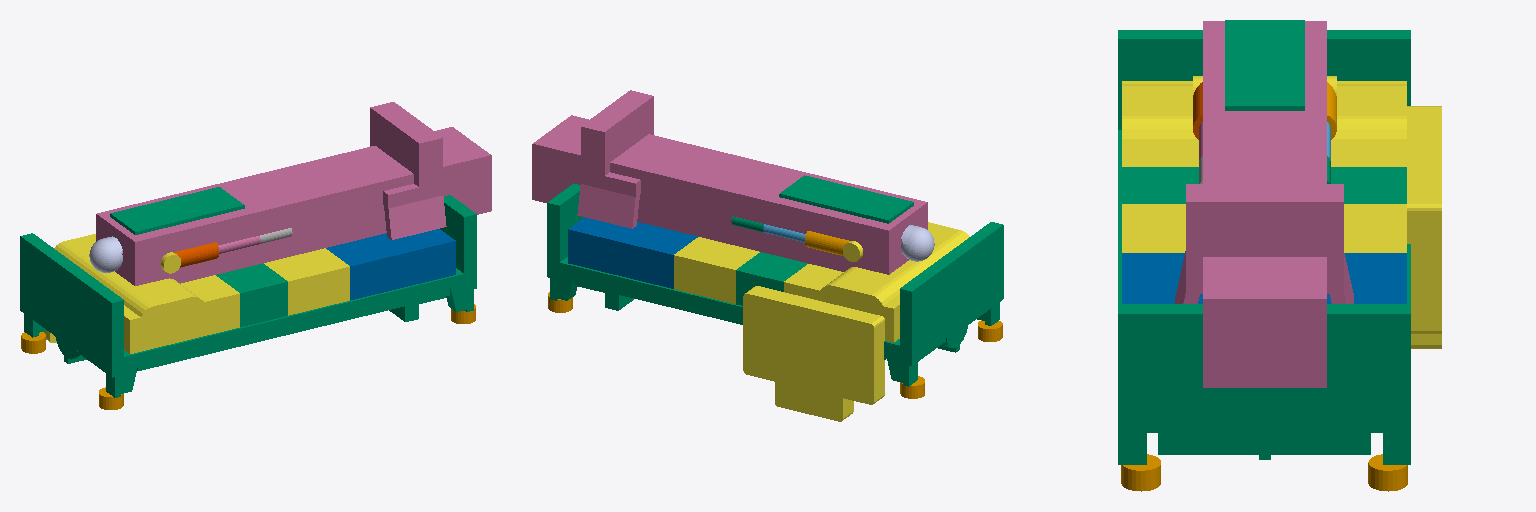
--- What the picture shows (computed from the rendered views, not written in the file) ---
3 views of the same robot in one strip: view 1: azimuth 30°, elevation 25°; view 2: azimuth 150°, elevation 25°; view 3: azimuth 270°, elevation 25° (orthographic).
Robot: bed_and_environment_cali_parameterized_tray — 43 links, 42 joints (17 revolute, 6 prismatic, 19 fixed); root link autobed/base_link; default pose: all joints at 0.
Links seen in each view (by area): view 1: autobed/pelvis_link, autobed/bed_frame_link, autobed/head_rest_link, autobed/overbed_tray_link, autobed/leg_rest_lower, autobed/leg_rest_upper, autobed/torso_link, autobed/base_link, autobed/head_link, autobed/upper_arm_right_link; view 2: autobed/pelvis_link, autobed/head_rest_link, autobed/bed_frame_link, autobed/overbed_tray_link, autobed/leg_rest_lower, autobed/leg_rest_upper, autobed/torso_link, autobed/base_link, autobed/head_link, autobed/upper_arm_left_link; view 3: autobed/bed_frame_link, autobed/pelvis_link, autobed/head_rest_link, autobed/overbed_tray_link, autobed/torso_link, autobed/leg_rest_upper, autobed/leg_rest_lower, autobed/base_link.
Boxes of the visible links, left/top/right/bottom form: autobed/pelvis_link: left=96, top=127, right=491, bottom=285; autobed/bed_frame_link: left=20, top=195, right=476, bottom=397; autobed/head_rest_link: left=44, top=234, right=239, bottom=353; autobed/overbed_tray_link: left=370, top=102, right=446, bottom=239; autobed/leg_rest_lower: left=326, top=229, right=455, bottom=300; autobed/leg_rest_upper: left=264, top=248, right=349, bottom=315; autobed/torso_link: left=110, top=187, right=244, bottom=234; autobed/base_link: left=21, top=304, right=475, bottom=409; autobed/head_link: left=89, top=236, right=122, bottom=272; autobed/upper_arm_right_link: left=173, top=242, right=218, bottom=267; autobed/pelvis_link: left=532, top=115, right=927, bottom=274; autobed/head_rest_link: left=743, top=222, right=969, bottom=421; autobed/bed_frame_link: left=547, top=183, right=1003, bottom=386; autobed/overbed_tray_link: left=577, top=90, right=653, bottom=228; autobed/leg_rest_lower: left=568, top=217, right=697, bottom=288; autobed/leg_rest_upper: left=674, top=237, right=759, bottom=303; autobed/torso_link: left=779, top=175, right=913, bottom=223; autobed/base_link: left=548, top=292, right=1002, bottom=398; autobed/head_link: left=901, top=225, right=934, bottom=261; autobed/upper_arm_left_link: left=805, top=231, right=849, bottom=255; autobed/bed_frame_link: left=1118, top=30, right=1410, bottom=464; autobed/pelvis_link: left=1203, top=21, right=1326, bottom=387; autobed/head_rest_link: left=1122, top=81, right=1441, bottom=348; autobed/overbed_tray_link: left=1175, top=184, right=1353, bottom=303; autobed/torso_link: left=1225, top=20, right=1304, bottom=110; autobed/leg_rest_upper: left=1122, top=204, right=1406, bottom=252; autobed/leg_rest_lower: left=1122, top=253, right=1406, bottom=303; autobed/base_link: left=1121, top=454, right=1407, bottom=491.
Bounding box of the posed robot: 2.65 × 1.13 × 1.25 m (x, y, z).
Meshes: 9 distinct files referenced, 8 mesh visuals loaded (8 binary STL); not drawn: 1 (reference not matched to a file when rendering).

The robot description file, URDF, robot "bed_and_environment_cali_parameterized_tray":
<?xml version="1.0" ?>
<!-- =================================================================================== -->
<!-- |    This document was autogenerated by xacro from ./urdf/bed_and_environment_cali_henry_tray/robots/bed_and_environment_cali_1_5m_tray_openrave.urdf.xacro | -->
<!-- |    EDITING THIS FILE BY HAND IS NOT RECOMMENDED                                 | -->
<!-- =================================================================================== -->
<robot name="bed_and_environment_cali_parameterized_tray" xmlns:xacro="http://www.ros.org/wiki/xacro">
  <!--<xacro:property name="torso_len" value="0.6" />-->
  <!--<xacro:property name="leg_len" value="1.1" />-->
  <!--<robot-->
  <!--name="bed_and_environment_cali_parameterized_tray">-->
  <link name="autobed/base_link">
    <inertial>
      <origin rpy="0 0 0" xyz="1.1357 5.02524375187963E-16 0.0837923121940762"/>
      <mass value="6.1860172808288"/>
      <inertia ixx="1.21978721906848" ixy="2.44249065417534E-15" ixz="-1.95644145492449E-15" iyy="8.04681346721547" iyz="-8.29396064187448E-16" izz="9.14286094259782"/>
    </inertial>
    <visual>
      <origin rpy="0 0 0" xyz="0 0 0"/>
      <geometry>
        <mesh filename="package://hrl_base_selection/urdf/bed_and_environment_cali_henry_tray/meshes/base_link.STL"/>
      </geometry>
    </visual>
    <collision>
      <origin rpy="0 0 0" xyz="0 0 0"/>
      <geometry>
        <mesh filename="package://hrl_base_selection/urdf/bed_and_environment_cali_henry_tray/meshes/base_link.STL"/>
      </geometry>
    </collision>
  </link>
  <link name="autobed/wall_link">
    <inertial>
      <origin rpy="0 0 0" xyz="1.87797370531369 0.344853002331874 0.50260600946241"/>
      <mass value="3357.24028579199"/>
      <inertia ixx="6116.11427029265" ixy="3215.70073716445" ixz="-7.36787327233699" iyy="7061.83554462804" iyz="404.207480292852" izz="12009.0931540893"/>
    </inertial>
    <visual>
      <origin rpy="0 0 0" xyz="0 0 0"/>
      <geometry>
        <mesh filename="package://hrl_base_selection/urdf/bed_and_environment_cali_henry_tray/meshes/wall_link.STL"/>
      </geometry>
    </visual>
    <collision>
      <origin rpy="0 0 0" xyz="0 0 0"/>
      <geometry>
        <mesh filename="package://hrl_base_selection/urdf/bed_and_environment_cali_henry_tray/meshes/wall_link.STL"/>
      </geometry>
    </collision>
  </link>
  <joint name="autobed/origin_wall_joint" type="fixed">
    <origin rpy="-6.12323399573677E-17 -2.86271466643222E-16 -0.0588984739444681" xyz="-0.121553494210093 -0.00360284373118887 0"/>
    <parent link="autobed/base_link"/>
    <child link="autobed/wall_link"/>
    <axis xyz="0 0 0"/>
  </joint>
  <!--<joint-->
  <!--name="autobed/test_length_joint"-->
  <!--type="fixed">-->
  <!--<origin-->
  <!--xyz="1.1565 0 0"-->
  <!--rpy="0 0 0" />-->
  <!--<parent-->
  <!--link="autobed/base_link" />-->
  <!--<child-->
  <!--link="autobed/test_length_link" />-->
  <!--<axis-->
  <!--xyz="0 0 0" />-->
  <!--</joint>-->
  <!--<link-->
  <!--name="autobed/test_length_link">-->
  <!--<visual>-->
  <!--<origin-->
  <!--xyz="0 0 0"-->
  <!--rpy="0 0 0" />-->
  <!--<geometry>-->
  <!--<box size="4.66 ${0.914*2} 0.1"/>-->
  <!--</geometry>-->
  <!--</visual>-->
  <!--<collision>-->
  <!--<origin-->
  <!--xyz="0 0 0"-->
  <!--rpy="0 0 0" />-->
  <!--<geometry>-->
  <!--<box size="4.66 ${0.914*2} 0.1"/>-->
  <!--</geometry>-->
  <!--</collision>-->
  <!--</link>-->
  <!--<joint-->
  <!--name="autobed/test_spot_joint"-->
  <!--type="fixed">-->
  <!--<origin-->
  <!--xyz="1.1565 0.4552 0"-->
  <!--rpy="0 0 0" />-->
  <!--<parent-->
  <!--link="autobed/base_link" />-->
  <!--<child-->
  <!--link="autobed/test_spot_link" />-->
  <!--<axis-->
  <!--xyz="0 0 0" />-->
  <!--</joint>-->
  <!--<link-->
  <!--name="autobed/test_spot_link">-->
  <!--<visual>-->
  <!--<origin-->
  <!--xyz="0 0 0"-->
  <!--rpy="0 0 0" />-->
  <!--<geometry>-->
  <!--<box size="0.1 0.1 0.1"/>-->
  <!--</geometry>-->
  <!--</visual>-->
  <!--<collision>-->
  <!--<origin-->
  <!--xyz="0 0 0"-->
  <!--rpy="0 0 0" />-->
  <!--<geometry>-->
  <!--<box size="0.1 0.1 0.1"/>-->
  <!--</geometry>-->
  <!--</collision>-->
  <!--</link>-->
  <link name="autobed/bed_frame_link">
    <inertial>
      <origin rpy="0 0 0" xyz="1.21628575112374 -0.00457131635492439 -0.0135493327987712"/>
      <mass value="438.573663325781"/>
      <inertia ixx="42.8905274768398" ixy="0.0492397267886641" ixz="-5.59060599846785" iyy="241.766114116497" iyz="0.273352447936363" izz="273.415411937571"/>
    </inertial>
    <visual>
      <origin rpy="0 0 0" xyz="0 0 0"/>
      <geometry>
        <mesh filename="package://hrl_base_selection/urdf/bed_and_environment_cali_henry_tray/meshes/bed_frame_link.STL"/>
      </geometry>
    </visual>
    <collision>
      <origin rpy="0 0 0" xyz="0 0 0"/>
      <geometry>
        <mesh filename="package://hrl_base_selection/urdf/bed_and_environment_cali_henry_tray/meshes/bed_frame_link.STL"/>
      </geometry>
    </collision>
  </link>
  <joint name="autobed/tele_legs_joint" type="prismatic">
    <origin rpy="0 0 0" xyz="-0.0400000000000005 0 0.320000000000001"/>
    <parent link="autobed/base_link"/>
    <child link="autobed/bed_frame_link"/>
    <axis xyz="0 0 1"/>
    <limit effort="0" lower="-1" upper="1" velocity="0"/>
  </joint>
  <link name="autobed/leg_rest_upper">
    <inertial>
      <origin rpy="0 0 0" xyz="0.200000000000001 0.105 5.39949211906603E-16"/>
      <mass value="83.5800000000001"/>
      <inertia ixx="7.20268062500001" ixy="6.22789394401658E-17" ixz="5.26123900305408E-16" iyy="8.00992412500002" iyz="-4.24421100017485E-15" izz="1.4215565"/>
    </inertial>
    <visual>
      <origin rpy="0 0 0" xyz="0 0 0"/>
      <geometry>
        <mesh filename="package://hrl_base_selection/urdf/bed_and_environment_cali_henry_tray/meshes/leg_rest_upper.STL"/>
      </geometry>
    </visual>
    <collision>
      <origin rpy="0 0 0" xyz="0 0 0"/>
      <geometry>
        <mesh filename="package://hrl_base_selection/urdf/bed_and_environment_cali_henry_tray/meshes/leg_rest_upper.STL"/>
      </geometry>
    </collision>
  </link>
  <joint name="autobed/leg_rest_upper_hinge" type="revolute">
    <origin rpy="1.5707963267949 -1.84377299293392E-16 7.65430446472183E-16" xyz="1.145 0 0"/>
    <parent link="autobed/bed_frame_link"/>
    <child link="autobed/leg_rest_upper"/>
    <axis xyz="0 0 1"/>
    <limit effort="0" lower="-2" upper="2" velocity="0"/>
  </joint>
  <link name="autobed/leg_rest_lower">
    <inertial>
      <origin rpy="0 0 0" xyz="0.34 0.105 -5.47791833032667E-17"/>
      <mass value="142.086"/>
      <inertia ixx="12.2445570625" ixy="-5.16774213504574E-17" ixz="-2.28125300458666E-16" iyy="17.1974382125" iyz="4.5484254092282E-16" izz="5.99721325"/>
    </inertial>
    <visual>
      <origin rpy="0 0 0" xyz="0 0 0"/>
      <geometry>
        <mesh filename="package://hrl_base_selection/urdf/bed_and_environment_cali_henry_tray/meshes/leg_rest_lower.STL"/>
      </geometry>
    </visual>
    <collision>
      <origin rpy="0 0 0" xyz="0 0 0"/>
      <geometry>
        <mesh filename="package://hrl_base_selection/urdf/bed_and_environment_cali_henry_tray/meshes/leg_rest_lower.STL"/>
      </geometry>
    </collision>
  </link>
  <joint name="autobed/leg_rest_lower_hinge" type="revolute">
    <origin rpy="8.46545056276682E-16 -2.4743657509036E-16 -1.8315782125782E-16" xyz="0.400000000000001 0 0"/>
    <parent link="autobed/leg_rest_upper"/>
    <child link="autobed/leg_rest_lower"/>
    <axis xyz="0 0 -1"/>
    <limit effort="0" lower="-2" upper="2" velocity="0"/>
  </joint>
  <joint name="autobed/leg_rest_lower_overbed_tray_y_joint" type="prismatic">
    <origin rpy="-1.5707963267949 -7.65430446472183E-16 -1.84377299293393E-16" xyz="1.1264 0.209999999999999 0.0"/>
    <parent link="autobed/leg_rest_upper"/>
    <child link="autobed/overbed_tray_y_link"/>
    <axis xyz="0 1 0"/>
    <limit effort="0" lower="-2" upper="2" velocity="0"/>
  </joint>
  <link name="autobed/overbed_tray_y_link">
  </link>
  <joint name="autobed/leg_rest_lower_overbed_tray_x_joint" type="prismatic">
    <origin rpy="0 0 0" xyz="0 0 0"/>
    <parent link="autobed/overbed_tray_y_link"/>
    <child link="autobed/overbed_tray_link"/>
    <axis xyz="1 0 0"/>
    <limit effort="0" lower="-2" upper="2" velocity="0"/>
  </joint>
  <link name="autobed/overbed_tray_link">
    <inertial>
      <origin rpy="0 0 0" xyz="-0.126831334555388 -2.39391839684799E-16 0.292487182922541"/>
      <mass value="45.8804418306016"/>
      <inertia ixx="2.25610644406934" ixy="5.89980014167489E-16" ixz="0.245785758241238" iyy="1.17395227790145" iyz="9.18641561642936E-16" izz="1.88004614377697"/>
    </inertial>
    <visual>
      <origin rpy="0 0 0" xyz="0 0 0"/>
      <geometry>
        <mesh filename="package://hrl_base_selection/urdf/bed_and_environment_cali_henry_tray/meshes/overbed_tray_link.STL"/>
      </geometry>
    </visual>
    <collision>
      <origin rpy="0 0 0" xyz="0 0 0"/>
      <geometry>
        <mesh filename="package://hrl_base_selection/urdf/bed_and_environment_cali_henry_tray/meshes/overbed_tray_link.STL"/>
      </geometry>
    </collision>
  </link>
  <joint name="autobed/tray_screen_bottom_left_joint" type="fixed">
    <origin rpy="0 0 0" xyz="-0.15408 0.27686 0.26419"/>
    <parent link="autobed/overbed_tray_link"/>
    <child link="autobed/screen_bottom_left_link"/>
  </joint>
  <link name="autobed/screen_bottom_left_link">
  </link>
  <joint name="autobed/tray_screen_bottom_right_joint" type="fixed">
    <origin rpy="0 0 0" xyz="-0.15408 -0.27686 0.26419"/>
    <parent link="autobed/overbed_tray_link"/>
    <child link="autobed/screen_bottom_right_link"/>
  </joint>
  <link name="autobed/screen_bottom_right_link">
  </link>
  <joint name="autobed/tray_screen_top_left_joint" type="fixed">
    <origin rpy="0 0 0" xyz="-0.15408 0.27686 0.53419"/>
    <parent link="autobed/overbed_tray_link"/>
    <child link="autobed/screen_top_left_link"/>
  </joint>
  <link name="autobed/screen_top_left_link">
  </link>
  <joint name="autobed/tray_screen_top_right_joint" type="fixed">
    <origin rpy="0 0 0" xyz="-0.15408 -0.27686 0.53419"/>
    <parent link="autobed/overbed_tray_link"/>
    <child link="autobed/screen_top_right_link"/>
  </joint>
  <link name="autobed/screen_top_right_link">
  </link>
  <link name="autobed/head_rest_link">
    <inertial>
      <origin rpy="0 0 0" xyz="0.329573377413269 -0.160120828020686 0.144918621186554"/>
      <mass value="224.783329311116"/>
      <inertia ixx="32.8876282309991" ixy="1.69548410687658" ixz="-3.19639748968515" iyy="37.6526299034377" iyz="-6.40258778692133" izz="16.0712822442492"/>
    </inertial>
    <visual>
      <origin rpy="0 0 0" xyz="0 0 0"/>
      <geometry>
        <mesh filename="package://hrl_base_selection/urdf/bed_and_environment_cali_henry_tray/meshes/head_rest_link.STL"/>
      </geometry>
    </visual>
    <collision>
      <origin rpy="0 0 0" xyz="0 0 0"/>
      <geometry>
        <mesh filename="package://hrl_base_selection/urdf/bed_and_environment_cali_henry_tray/meshes/head_rest_link.STL"/>
      </geometry>
    </collision>
  </link>
  <joint name="autobed/head_rest_hinge" type="revolute">
    <origin rpy="1.5708 0 -3.1416" xyz="0.835 0 0.21"/>
    <parent link="autobed/bed_frame_link"/>
    <child link="autobed/head_rest_link"/>
    <axis xyz="0 0 1"/>
    <limit effort="0" lower="-2" upper="2" velocity="0"/>
  </joint>
  <link name="autobed/neck_rotated_to_worldframe_link">
  </link>
  <joint name="autobed/headrest_bed_to_worldframe_joint" type="revolute">
    <origin rpy="0. 0. 0." xyz="0.41 0.15 0"/>
    <!--<origin-->
    <!--xyz="0.40949 0.05 0"-->
    <!--rpy="0. 0. 0." />-->
    <parent link="autobed/head_rest_link"/>
    <child link="autobed/neck_rotated_to_worldframe_link"/>
    <axis xyz="0 0 1"/>
    <limit effort="0" lower="-2" upper="2" velocity="0"/>
  </joint>
  <link name="autobed/neck_updown_worldframe_translation_link">
  </link>
  <joint name="autobed/bed_neck_worldframe_updown_joint" type="prismatic">
    <origin rpy="0.0 0.0 0.0" xyz="0.0 0.0 0"/>
    <parent link="autobed/neck_rotated_to_worldframe_link"/>
    <child link="autobed/neck_updown_worldframe_translation_link"/>
    <axis xyz="-1 0 0"/>
    <limit effort="0" lower="-2" upper="2" velocity="0"/>
  </joint>
  <link name="autobed/neck_rotated_to_bedframe_link">
  </link>
  <joint name="autobed/bed_neck_to_bedframe_joint" type="revolute">
    <origin rpy="0. 0. 0." xyz="0.0 0.0 0"/>
    <parent link="autobed/neck_updown_worldframe_translation_link"/>
    <child link="autobed/neck_rotated_to_bedframe_link"/>
    <axis xyz="0 0 1"/>
    <limit effort="0" lower="-2" upper="2" velocity="0"/>
  </joint>
  <link name="autobed/neck_updown_bedframe_translation_link">
  </link>
  <joint name="autobed/bed_neck_base_updown_bedframe_joint" type="prismatic">
    <origin rpy="0. 0. 0." xyz="0.0 0.0 0"/>
    <parent link="autobed/neck_rotated_to_bedframe_link"/>
    <child link="autobed/neck_updown_bedframe_translation_link"/>
    <axis xyz="-1 0 0"/>
    <limit effort="0" lower="-2" upper="2" velocity="0"/>
  </joint>
  <link name="autobed/neck_base_link">
  </link>
  <joint name="autobed/bed_neck_base_leftright_joint" type="prismatic">
    <origin rpy="0 3.14159 0" xyz="0 0 0"/>
    <parent link="autobed/neck_updown_bedframe_translation_link"/>
    <child link="autobed/neck_base_link"/>
    <axis xyz="0 0 -1"/>
    <limit effort="0" lower="-2" upper="2" velocity="0"/>
  </joint>
  <link name="autobed/neck_twist_link">
  </link>
  <joint name="autobed/neck_twist_joint" type="revolute">
    <origin rpy="0. 0. 0." xyz="0.0 0.0 0"/>
    <parent link="autobed/neck_base_link"/>
    <child link="autobed/neck_twist_link"/>
    <axis xyz="1 0 0"/>
    <limit effort="0" lower="-2" upper="2" velocity="0"/>
  </joint>
  <link name="autobed/neck_tilt_link">
  </link>
  <joint name="autobed/neck_tilt_joint" type="revolute">
    <origin rpy="0. 0. 0." xyz="0.0 0.0 0"/>
    <parent link="autobed/neck_twist_link"/>
    <child link="autobed/neck_tilt_link"/>
    <axis xyz="0 0 -1"/>
    <limit effort="0" lower="-2" upper="2" velocity="0"/>
  </joint>
  <link name="autobed/neck_link">
    <visual>
      <origin rpy="0 0 0" xyz="0 0 0"/>
      <geometry>
        <mesh filename="package://hrl_base_selection/urdf/bed_and_environment_cali_henry_tray/meshes/neck_link.STL"/>
      </geometry>
      <material name="">
        <color rgba="0.792156862745098 0.819607843137255 0.933333333333333 1"/>
      </material>
    </visual>
    <collision>
      <origin rpy="0 0 0" xyz="0 0 0"/>
      <geometry>
        <mesh filename="package://hrl_base_selection/urdf/bed_and_environment_cali_henry_tray/meshes/neck_link.STL"/>
      </geometry>
    </collision>
  </link>
  <joint name="autobed/neck_to_neck_top_joint" type="fixed">
    <origin rpy="0 0 0" xyz="-0.07239 0 0"/>
    <parent link="autobed/neck_tilt_link"/>
    <child link="autobed/neck_link"/>
  </joint>
  <link name="autobed/neck_top_rotated_link">
  </link>
  <joint name="autobed/neck_rotation_fixed_joint" type="fixed">
    <origin rpy="-1.570796 0 1.570796" xyz="0 0 0"/>
    <parent link="autobed/neck_link"/>
    <child link="autobed/neck_top_rotated_link"/>
    <axis xyz="0 0 1"/>
    <limit effort="0" lower="-2" upper="2" velocity="0"/>
  </joint>
  <link name="autobed/head_roty_link">
  </link>
  <joint name="autobed/neck_head_roty_joint" type="revolute">
    <origin rpy="0 0 0" xyz="0.0154 0 0.07779"/>
    <parent link="autobed/neck_top_rotated_link"/>
    <child link="autobed/head_roty_link"/>
    <axis xyz="0 1 0"/>
    <limit effort="0" lower="-2" upper="2" velocity="0"/>
  </joint>
  <link name="autobed/head_rotz_link">
  </link>
  <joint name="autobed/neck_head_rotz_joint" type="revolute">
    <origin rpy="0 0 0" xyz="0 0 0"/>
    <parent link="autobed/head_roty_link"/>
    <child link="autobed/head_rotz_link"/>
    <axis xyz="0 0 1"/>
    <limit effort="0" lower="-2" upper="2" velocity="0"/>
  </joint>
  <link name="autobed/head_link">
    <visual>
      <origin rpy="0 0 0" xyz="0 0 0"/>
      <geometry>
        <mesh filename="package://hrl_base_selection/urdf/bed_and_environment_cali_henry_tray/meshes/head_link.STL"/>
      </geometry>
      <material name="">
        <color rgba="0.792156862745098 0.819607843137255 0.933333333333333 1"/>
      </material>
    </visual>
    <collision>
      <origin rpy="0 0 0" xyz="0 0 0"/>
      <geometry>
        <mesh filename="package://hrl_base_selection/urdf/bed_and_environment_cali_henry_tray/meshes/head_link.STL"/>
      </geometry>
    </collision>
  </link>
  <joint name="autobed/neck_head_rotx_joint" type="revolute">
    <origin rpy="0 0 0" xyz="0 0 0"/>
    <parent link="autobed/head_rotz_link"/>
    <child link="autobed/head_link"/>
    <axis xyz="1 0 0"/>
    <limit effort="0" lower="-2" upper="2" velocity="0"/>
  </joint>
  <joint name="autobed/head_eyes_joint" type="fixed">
    <origin rpy="0 0 0" xyz="0.09779 0 0.03"/>
    <parent link="autobed/head_link"/>
    <child link="autobed/eyes_link"/>
  </joint>
  <link name="autobed/eyes_link">
  </link>
  <joint name="autobed/neck_missing_neck_joint" type="fixed">
    <origin rpy="0 0 0" xyz="0.05761 0 0"/>
    <parent link="autobed/neck_base_link"/>
    <child link="autobed/missing_neck_link"/>
  </joint>
  <link name="autobed/missing_neck_link">
    <visual>
      <origin rpy="0 0 0" xyz="-0.028805 0.0 0"/>
      <geometry>
        <!--<box size="0.5 0.5 .2"/>-->
        <!--<box size="${0.55*body_len/comp_len*2} 0.35 ${0.5*body_len/comp_len*2} "/>-->
        <box size="0.23044 0.22 0.31 "/>
      </geometry>
    </visual>
    <collision>
      <origin rpy="0 0 0" xyz="-0.028805 0.0 0"/>
      <geometry>
        <!--<box size="0.5 0.5 .2"/>-->
        <!--<box size="${0.6*body_len/comp_len*2} 0.35 ${0.5*body_len/comp_len*2}"/>-->
        <box size="0.23044 0.22 0.31 "/>
      </geometry>
    </collision>
  </link>
  <joint name="autobed/neck_torso_box_joint" type="fixed">
    <origin rpy="0 0 0" xyz="0.0573789173789 0 0"/>
    <parent link="autobed/missing_neck_link"/>
    <child link="autobed/torso_link"/>
  </joint>
  <link name="autobed/torso_link">
    <visual>
      <origin rpy="0 0 0" xyz="0.176310541311 0.0 0"/>
      <geometry>
        <!--<box size="0.5 0.5 .2"/>-->
        <!--<box size="${0.55*body_len/comp_len*2} 0.35 ${0.5*body_len/comp_len*2} "/>-->
        <box size="0.705242165242 0.389743589744 0.281481481482 "/>
      </geometry>
    </visual>
    <collision>
      <origin rpy="0 0 0" xyz="0.176310541311 0.0 0"/>
      <geometry>
        <!--<box size="0.5 0.5 .2"/>-->
        <!--<box size="${0.6*body_len/comp_len*2} 0.35 ${0.5*body_len/comp_len*2}"/>-->
        <box size="0.705242165242 0.389743589744 0.281481481482 "/>
      </geometry>
    </collision>
  </link>
  <joint name="autobed/neck_torso_clavicle_joint" type="fixed">
    <origin rpy="0 0 0" xyz="0 0 0"/>
    <parent link="autobed/torso_link"/>
    <child link="autobed/torso_clavicle_link"/>
  </joint>
  <link name="autobed/torso_clavicle_link">
    <visual>
      <origin rpy="0 0 0" xyz="0 0.0 0"/>
      <geometry>
        <!--<box size="0.5 0.5 .2"/>-->
        <!--<box size="${0.55*body_len/comp_len*2} 0.35 ${0.5*body_len/comp_len*2} "/>-->
        <cylinder length="0.503418803419" radius="0.0573789173789"/>
      </geometry>
    </visual>
    <collision>
      <origin rpy="0 0 0" xyz="0 0.0 0"/>
      <geometry>
        <!--<box size="0.5 0.5 .2"/>-->
        <!--<box size="${0.6*body_len/comp_len*2} 0.35 ${0.5*body_len/comp_len*2}"/>-->
        <cylinder length="0.503418803419" radius="0.0573789173789"/>
      </geometry>
    </collision>
  </link>
  <joint name="autobed/torso_side_right_joint" type="fixed">
    <origin rpy="0 1.5708 0" xyz="0 0 0"/>
    <parent link="autobed/torso_link"/>
    <child link="autobed/torso_side_right_link"/>
  </joint>
  <link name="autobed/torso_side_right_link">
    <visual>
      <origin rpy="0 0 0" xyz="0.0703703703705 0. 0.176310541311"/>
      <geometry>
        <!--<box size="0.5 0.5 .2"/>-->
        <!--<box size="${0.55*body_len/comp_len*2} 0.35 ${0.5*body_len/comp_len*2} "/>-->
        <cylinder length="0.352621082621" radius="0.097435897436"/>
      </geometry>
    </visual>
    <collision>
      <origin rpy="0 0 0" xyz="0.0703703703705 0. 0.176310541311"/>
      <geometry>
        <!--<box size="0.5 0.5 .2"/>-->
        <!--<box size="${0.6*body_len/comp_len*2} 0.35 ${0.5*body_len/comp_len*2}"/>-->
        <cylinder length="0.352621082621" radius="0.097435897436"/>
      </geometry>
    </collision>
  </link>
  <joint name="autobed/torso_side_left_joint" type="fixed">
    <origin rpy="0 1.5708 0" xyz="0 0 0"/>
    <parent link="autobed/torso_link"/>
    <child link="autobed/torso_side_left_link"/>
  </joint>
  <link name="autobed/torso_side_left_link">
    <visual>
      <origin rpy="0 0 0" xyz="-0.0703703703705 0. 0.176310541311"/>
      <geometry>
        <!--<box size="0.5 0.5 .2"/>-->
        <!--<box size="${0.55*body_len/comp_len*2} 0.35 ${0.5*body_len/comp_len*2} "/>-->
        <cylinder length="0.352621082621" radius="0.097435897436"/>
      </geometry>
    </visual>
    <collision>
      <origin rpy="0 0 0" xyz="0.0703703703705 0. 0.176310541311"/>
      <geometry>
        <!--<box size="0.5 0.5 .2"/>-->
        <!--<box size="${0.6*body_len/comp_len*2} 0.35 ${0.5*body_len/comp_len*2}"/>-->
        <cylinder length="0.352621082621" radius="0.097435897436"/>
      </geometry>
    </collision>
  </link>
  <joint name="autobed/torso_pelvis_joint" type="revolute">
    <origin rpy="0 0 0" xyz="0.352621082621 0.0 0"/>
    <parent link="autobed/torso_link"/>
    <child link="autobed/pelvis_link"/>
    <axis xyz="0 0 1"/>
    <limit effort="0" lower="-3" upper="3" velocity="0"/>
  </joint>
  <link name="autobed/pelvis_link">
    <visual>
      <origin rpy="0 0 0" xyz="0.574487179487 0 0"/>
      <geometry>
        <!--<box size="0.5 0.5 .2"/>-->
        <!--<box size="${1.2*body_len/comp_len*2} 0.35 ${0.5*body_len/comp_len*2}"/>-->
        <box size="2.29794871795 0.346438746438 0.435213675214 "/>
      </geometry>
    </visual>
    <collision>
      <origin rpy="0 0 0" xyz="0.574487179487 0 0"/>
      <geometry>
        <!--<box size="0.5 0.5 .2"/>-->
        <!--<box size="${1.2*body_len/comp_len*2} 0.35 ${0.5*body_len/comp_len*2}"/>-->
        <box size="2.29794871795 0.346438746438 0.435213675214 "/>
      </geometry>
    </collision>
  </link>
  <joint name="autobed/legs_side_right_joint" type="fixed">
    <origin rpy="0 1.5708 0" xyz="0 0 0"/>
    <parent link="autobed/pelvis_link"/>
    <child link="autobed/legs_side_right_link"/>
  </joint>
  <link name="autobed/legs_side_right_link">
    <visual>
      <origin rpy="0 0 0" xyz="0.108803418804 0. 0.574487179487"/>
      <geometry>
        <!--<box size="0.5 0.5 .2"/>-->
        <!--<box size="${0.55*body_len/comp_len*2} 0.35 ${0.5*body_len/comp_len*2} "/>-->
        <cylinder length="1.14897435897" radius="0.0866096866095"/>
      </geometry>
    </visual>
    <collision>
      <origin rpy="0 0 0" xyz="0.108803418804 0. 0.574487179487"/>
      <geometry>
        <!--<box size="0.5 0.5 .2"/>-->
        <!--<box size="${0.6*body_len/comp_len*2} 0.35 ${0.5*body_len/comp_len*2}"/>-->
        <cylinder length="0.352621082621" radius="0.097435897436"/>
      </geometry>
    </collision>
  </link>
  <joint name="autobed/legs_side_left_joint" type="fixed">
    <origin rpy="0 1.5708 0" xyz="0 0 0"/>
    <parent link="autobed/pelvis_link"/>
    <child link="autobed/legs_side_left_link"/>
  </joint>
  <link name="autobed/legs_side_left_link">
    <visual>
      <origin rpy="0 0 0" xyz="-0.108803418804 0. 0.574487179487"/>
      <geometry>
        <!--<box size="0.5 0.5 .2"/>-->
        <!--<box size="${0.55*body_len/comp_len*2} 0.35 ${0.5*body_len/comp_len*2} "/>-->
        <cylinder length="1.14897435897" radius="0.0866096866095"/>
      </geometry>
    </visual>
    <collision>
      <origin rpy="0 0 0" xyz="-0.108803418804 0. 0.574487179487"/>
      <geometry>
        <!--<box size="0.5 0.5 .2"/>-->
        <!--<box size="${0.6*body_len/comp_len*2} 0.35 ${0.5*body_len/comp_len*2}"/>-->
        <cylinder length="0.352621082621" radius="0.097435897436"/>
      </geometry>
    </collision>
  </link>
  <joint name="autobed/pelvis_knee_left_joint" type="fixed">
    <origin rpy="-1.5708 0 1.5708" xyz="0.604415954416 0 -0.0963532763535"/>
    <parent link="autobed/pelvis_link"/>
    <child link="autobed/knee_left_link"/>
  </joint>
  <link name="autobed/knee_left_link">
  </link>
  <joint name="autobed/knee_foot_left_joint" type="fixed">
    <origin rpy="0 0 0" xyz="0 0 -0.456866096866"/>
    <parent link="autobed/knee_left_link"/>
    <child link="autobed/foot_left_link"/>
  </joint>
  <link name="autobed/foot_left_link">
  </link>
  <joint name="autobed/pelvis_knee_right_joint" type="fixed">
    <origin rpy="-1.5708 0 1.5708" xyz="0.604415954416 0 0.0963532763535"/>
    <parent link="autobed/pelvis_link"/>
    <child link="autobed/knee_right_link"/>
  </joint>
  <link name="autobed/knee_right_link">
  </link>
  <joint name="autobed/knee_foot_right_joint" type="fixed">
    <origin rpy="0 0 0" xyz="0 0 -0.456866096866"/>
    <parent link="autobed/knee_right_link"/>
    <child link="autobed/foot_right_link"/>
  </joint>
  <link name="autobed/foot_right_link">
  </link>
  <joint name="autobed/torso_upper_arm_right_joint" type="revolute">
    <origin rpy="-1.5708 0 1.5708" xyz="0 0 0.194330484331"/>
    <parent link="autobed/torso_link"/>
    <child link="autobed/upper_arm_right_link"/>
    <axis xyz="0 1 0"/>
    <limit effort="0" lower="-3" upper="3" velocity="0"/>
  </joint>
  <link name="autobed/upper_arm_right_link">
    <visual>
      <origin rpy="0 0 0" xyz="0 0. -0.151025641026"/>
      <geometry>
        <!--<box size="0.5 0.5 .2"/>-->
        <!--<box size="${0.55*body_len/comp_len*2} 0.35 ${0.5*body_len/comp_len*2} "/>-->
        <cylinder length="0.302051282051" radius="0.0573789173789"/>
      </geometry>
    </visual>
    <collision>
      <origin rpy="0 0 0" xyz="0 0. -0.151025641026"/>
      <geometry>
        <!--<box size="0.5 0.5 .2"/>-->
        <!--<box size="${0.6*body_len/comp_len*2} 0.35 ${0.5*body_len/comp_len*2}"/>-->
        <cylinder length="0.302051282051" radius="0.0573789173789"/>
      </geometry>
    </collision>
  </link>
  <joint name="autobed/upper_arm_fore_arm_right_joint" type="revolute">
    <origin rpy="0 0 0" xyz="0 0 -0.302051282051"/>
    <parent link="autobed/upper_arm_right_link"/>
    <child link="autobed/fore_arm_right_link"/>
    <axis xyz="0 1 0"/>
    <limit effort="0" lower="-3" upper="3" velocity="0"/>
  </joint>
  <link name="autobed/fore_arm_right_link">
    <visual>
      <origin rpy="0 0 0" xyz="0 0. -0.139116809117"/>
      <geometry>
        <!--<box size="0.5 0.5 .2"/>-->
        <!--<box size="${0.55*body_len/comp_len*2} 0.35 ${0.5*body_len/comp_len*2} "/>-->
        <cylinder length="0.278233618234" radius="0.0357264957265"/>
      </geometry>
    </visual>
    <collision>
      <origin rpy="0 0 0" xyz="0 0. -0.139116809117"/>
      <geometry>
        <!--<box size="0.5 0.5 .2"/>-->
        <!--<box size="${0.6*body_len/comp_len*2} 0.35 ${0.5*body_len/comp_len*2}"/>-->
        <cylinder length="0.278233618234" radius="0.0357264957265"/>
      </geometry>
    </collision>
  </link>
  <joint name="autobed/fore_arm_hand_right_joint" type="revolute">
    <origin rpy="0 0 0" xyz="0 0 -0.278233618234"/>
    <parent link="autobed/fore_arm_right_link"/>
    <child link="autobed/hand_right_link"/>
    <axis xyz="0 1 0"/>
    <limit effort="0" lower="-3" upper="3" velocity="0"/>
  </joint>
  <link name="autobed/hand_right_link">
    <visual>
      <origin rpy="0 0 0" xyz="0 0. -0.102849002849"/>
      <geometry>
        <!--<box size="0.5 0.5 .2"/>-->
        <!--<box size="${0.55*body_len/comp_len*2} 0.35 ${0.5*body_len/comp_len*2} "/>-->
        <cylinder length="0.205698005698" radius="0.0357264957265"/>
      </geometry>
    </visual>
    <collision>
      <origin rpy="0 0 0" xyz="0 0. -0.102849002849"/>
      <geometry>
        <!--<box size="0.5 0.5 .2"/>-->
        <!--<box size="${0.6*body_len/comp_len*2} 0.35 ${0.5*body_len/comp_len*2}"/>-->
        <cylinder length="0.205698005698" radius="0.0357264957265"/>
      </geometry>
    </collision>
  </link>
  <joint name="autobed/torso_upper_arm_left_joint" type="revolute">
    <origin rpy="-1.5708 0 1.5708" xyz="0 0 -0.194330484331"/>
    <parent link="autobed/torso_link"/>
    <child link="autobed/upper_arm_left_link"/>
    <axis xyz="0 1 0"/>
    <limit effort="0" lower="-3" upper="3" velocity="0"/>
  </joint>
  <link name="autobed/upper_arm_left_link">
    <visual>
      <origin rpy="0 0 0" xyz="0 0. -0.151025641026"/>
      <geometry>
        <!--<box size="0.5 0.5 .2"/>-->
        <!--<box size="${0.55*body_len/comp_len*2} 0.35 ${0.5*body_len/comp_len*2} "/>-->
        <cylinder length="0.302051282051" radius="0.0573789173789"/>
      </geometry>
    </visual>
    <collision>
      <origin rpy="0 0 0" xyz="0 0. -0.151025641026"/>
      <geometry>
        <!--<box size="0.5 0.5 .2"/>-->
        <!--<box size="${0.6*body_len/comp_len*2} 0.35 ${0.5*body_len/comp_len*2}"/>-->
        <cylinder length="0.302051282051" radius="0.0573789173789"/>
      </geometry>
    </collision>
  </link>
  <joint name="autobed/upper_arm_fore_arm_left_joint" type="revolute">
    <origin rpy="0 0 0" xyz="0 0 -0.302051282051"/>
    <parent link="autobed/upper_arm_left_link"/>
    <child link="autobed/fore_arm_left_link"/>
    <axis xyz="0 1 0"/>
    <limit effort="0" lower="-3" upper="3" velocity="0"/>
  </joint>
  <link name="autobed/fore_arm_left_link">
    <visual>
      <origin rpy="0 0 0" xyz="0 0. -0.139116809117"/>
      <geometry>
        <!--<box size="0.5 0.5 .2"/>-->
        <!--<box size="${0.55*body_len/comp_len*2} 0.35 ${0.5*body_len/comp_len*2} "/>-->
        <cylinder length="0.278233618234" radius="0.0357264957265"/>
      </geometry>
    </visual>
    <collision>
      <origin rpy="0 0 0" xyz="0 0. -0.139116809117"/>
      <geometry>
        <!--<box size="0.5 0.5 .2"/>-->
        <!--<box size="${0.6*body_len/comp_len*2} 0.35 ${0.5*body_len/comp_len*2}"/>-->
        <cylinder length="0.278233618234" radius="0.0357264957265"/>
      </geometry>
    </collision>
  </link>
  <joint name="autobed/fore_arm_hand_left_joint" type="revolute">
    <origin rpy="0 0 0" xyz="0 0 -0.278233618234"/>
    <parent link="autobed/fore_arm_left_link"/>
    <child link="autobed/hand_left_link"/>
    <axis xyz="0 1 0"/>
    <limit effort="0" lower="-3" upper="3" velocity="0"/>
  </joint>
  <link name="autobed/hand_left_link">
    <visual>
      <origin rpy="0 0 0" xyz="0 0. -0.102849002849"/>
      <geometry>
        <!--<box size="0.5 0.5 .2"/>-->
        <!--<box size="${0.55*body_len/comp_len*2} 0.35 ${0.5*body_len/comp_len*2} "/>-->
        <cylinder length="0.205698005698" radius="0.0357264957265"/>
      </geometry>
    </visual>
    <collision>
      <origin rpy="0 0 0" xyz="0 0. -0.102849002849"/>
      <geometry>
        <!--<box size="0.5 0.5 .2"/>-->
        <!--<box size="${0.6*body_len/comp_len*2} 0.35 ${0.5*body_len/comp_len*2}"/>-->
        <cylinder length="0.205698005698" radius="0.0357264957265"/>
      </geometry>
    </collision>
  </link>
  <!--<link-->
  <!--name="autobed/upper_body_link">-->
  <!--<visual>-->
  <!--<origin-->
  <!--xyz="0 0 0"-->
  <!--rpy="0 0 0" />-->
  <!--<geometry>-->
  <!--<mesh-->
  <!--filename="package://hrl_base_selection/urdf/bed_and_environment_cali_henry_tray/meshes/upper_body_link.STL" />-->
  <!--</geometry>-->
  <!--<material-->
  <!--name="">-->
  <!--<color-->
  <!--rgba="0.792156862745098 0.819607843137255 0.933333333333333 1" />-->
  <!--</material>-->
  <!--</visual>-->
  <!--<collision>-->
  <!--<origin-->
  <!--xyz="0 0 0"-->
  <!--rpy="0 0 0" />-->
  <!--<geometry>-->
  <!--<mesh-->
  <!--filename="package://hrl_base_selection/urdf/bed_and_environment_cali_henry_tray/meshes/upper_body_link.STL" />-->
  <!--</geometry>-->
  <!--</collision>-->
  <!--</link>-->
  <!--<joint-->
  <!--name="autobed/neck_body_joint"-->
  <!--type="revolute">-->
  <!--<origin-->
  <!--xyz="0.00 0 0"-->
  <!--rpy="0 0 0" />-->
  <!--<parent-->
  <!--link="autobed/neck_base_link" />-->
  <!--<child-->
  <!--link="autobed/upper_body_link" />-->
  <!--<axis-->
  <!--xyz="0 0 -1" />-->
  <!--<limit-->
  <!--lower="-2"-->
  <!--upper="2"-->
  <!--effort="0"-->
  <!--velocity="0" />-->
  <!--</joint>-->
  <!--<link-->
  <!--name="autobed/mid_body_link">-->
  <!--<visual>-->
  <!--<origin-->
  <!--xyz="0 0 0"-->
  <!--rpy="0 0 0" />-->
  <!--<geometry>-->
  <!--<mesh-->
  <!--filename="package://hrl_base_selection/urdf/bed_and_environment_cali_henry_tray/meshes/mid_body_link.STL" />-->
  <!--</geometry>-->
  <!--<material-->
  <!--name="">-->
  <!--<color-->
  <!--rgba="0.792156862745098 0.819607843137255 0.933333333333333 1" />-->
  <!--</material>-->
  <!--</visual>-->
  <!--<collision>-->
  <!--<origin-->
  <!--xyz="0 0 0"-->
  <!--rpy="0 0 0" />-->
  <!--<geometry>-->
  <!--<mesh-->
  <!--filename="package://hrl_base_selection/urdf/bed_and_environment_cali_henry_tray/meshes/mid_body_link.STL" />-->
  <!--</geometry>-->
  <!--</collision>-->
  <!--</link>-->
  <!--<joint-->
  <!--name="autobed/upper_mid_body_joint"-->
  <!--type="revolute">-->
  <!--<origin-->
  <!--xyz="0.35052 0 0"-->
  <!--rpy="0 0 0" />-->
  <!--<parent-->
  <!--link="autobed/upper_body_link" />-->
  <!--<child-->
  <!--link="autobed/mid_body_link" />-->
  <!--<axis-->
  <!--xyz="0 0 1" />-->
  <!--<limit-->
  <!--lower="-2"-->
  <!--upper="2"-->
  <!--effort="0"-->
  <!--velocity="0" />-->
  <!--</joint>-->
  <!--<link-->
  <!--name="autobed/lower_body_link">-->
  <!--<visual>-->
  <!--<origin-->
  <!--xyz="0 0 0"-->
  <!--rpy="0 0 0" />-->
  <!--<geometry>-->
  <!--<mesh-->
  <!--filename="package://hrl_base_selection/urdf/bed_and_environment_cali_henry_tray/meshes/lower_body_link.STL" />-->
  <!--</geometry>-->
  <!--<material-->
  <!--name="">-->
  <!--<color-->
  <!--rgba="0.792156862745098 0.819607843137255 0.933333333333333 1" />-->
  <!--</material>-->
  <!--</visual>-->
  <!--<collision>-->
  <!--<origin-->
  <!--xyz="0 0 0"-->
  <!--rpy="0 0 0" />-->
  <!--<geometry>-->
  <!--<mesh-->
  <!--filename="package://hrl_base_selection/urdf/bed_and_environment_cali_henry_tray/meshes/lower_body_link.STL" />-->
  <!--</geometry>-->
  <!--</collision>-->
  <!--</link>-->
  <!--<joint-->
  <!--name="autobed/mid_lower_body_joint"-->
  <!--type="revolute">-->
  <!--<origin-->
  <!--xyz="0.15113 0 0"-->
  <!--rpy="0 0 0" />-->
  <!--<parent-->
  <!--link="autobed/mid_body_link" />-->
  <!--<child-->
  <!--link="autobed/lower_body_link" />-->
  <!--<axis-->
  <!--xyz="0 0 1" />-->
  <!--<limit-->
  <!--lower="-2"-->
  <!--upper="2"-->
  <!--effort="0"-->
  <!--velocity="0" />-->
  <!--</joint>-->
  <!--<link-->
  <!--name="autobed/quad_left_link">-->
  <!--<visual>-->
  <!--<origin-->
  <!--xyz="0 0 0"-->
  <!--rpy="0 0 0" />-->
  <!--<geometry>-->
  <!--<mesh-->
  <!--filename="package://hrl_base_selection/urdf/bed_and_environment_cali_henry_tray/meshes/quad_left_link.STL" />-->
  <!--</geometry>-->
  <!--<material-->
  <!--name="">-->
  <!--<color-->
  <!--rgba="0.792156862745098 0.819607843137255 0.933333333333333 1" />-->
  <!--</material>-->
  <!--</visual>-->
  <!--<collision>-->
  <!--<origin-->
  <!--xyz="0 0 0"-->
  <!--rpy="0 0 0" />-->
  <!--<geometry>-->
  <!--<mesh-->
  <!--filename="package://hrl_base_selection/urdf/bed_and_environment_cali_henry_tray/meshes/quad_left_link.STL" />-->
  <!--</geometry>-->
  <!--</collision>-->
  <!--</link>-->
  <!--<joint-->
  <!--name="autobed/body_quad_left_joint"-->
  <!--type="revolute">-->
  <!--<origin-->
  <!--xyz="0.05207 0 -0.08636"-->
  <!--rpy="0 0 -.25" />-->
  <!--<parent-->
  <!--link="autobed/lower_body_link" />-->
  <!--<child-->
  <!--link="autobed/quad_left_link" />-->
  <!--<axis-->
  <!--xyz="0 0 1" />-->
  <!--<limit-->
  <!--lower="-3."-->
  <!--upper="3."-->
  <!--effort="0"-->
  <!--velocity="0" />-->
  <!--</joint>-->
  <!--<link-->
  <!--name="autobed/calf_left_link">-->
  <!--<visual>-->
  <!--<origin-->
  <!--xyz="0 0 0"-->
  <!--rpy="0 0 0" />-->
  <!--<geometry>-->
  <!--<mesh-->
  <!--filename="package://hrl_base_selection/urdf/bed_and_environment_cali_henry_tray/meshes/calf_left_link.STL" />-->
  <!--</geometry>-->
  <!--<material-->
  <!--name="">-->
  <!--<color-->
  <!--rgba="0.792156862745098 0.819607843137255 0.933333333333333 1" />-->
  <!--</material>-->
  <!--</visual>-->
  <!--<collision>-->
  <!--<origin-->
  <!--xyz="0 0 0"-->
  <!--rpy="0 0 0" />-->
  <!--<geometry>-->
  <!--<mesh-->
  <!--filename="package://hrl_base_selection/urdf/bed_and_environment_cali_henry_tray/meshes/calf_left_link.STL" />-->
  <!--</geometry>-->
  <!--</collision>-->
  <!--</link>-->
  <!--<joint-->
  <!--name="autobed/quad_calf_left_joint"-->
  <!--type="revolute">-->
  <!--<origin-->
  <!--xyz="0.41218 0.11044 0"-->
  <!--rpy="3.14159 0 3.43" />-->
  <!--<parent-->
  <!--link="autobed/quad_left_link" />-->
  <!--<child-->
  <!--link="autobed/calf_left_link" />-->
  <!--<axis-->
  <!--xyz="0 0 1" />-->
  <!--<limit-->
  <!--lower="-3."-->
  <!--upper="3."-->
  <!--effort="0"-->
  <!--velocity="0" />-->
  <!--</joint>-->
  <!--<link-->
  <!--name="autobed/foot_left_link">-->
  <!--<visual>-->
  <!--<origin-->
  <!--xyz="0 0 0"-->
  <!--rpy="0 0 0" />-->
  <!--<geometry>-->
  <!--<mesh-->
  <!--filename="package://hrl_base_selection/urdf/bed_and_environment_cali_henry_tray/meshes/foot_left_link.STL" />-->
  <!--</geometry>-->
  <!--<material-->
  <!--name="">-->
  <!--<color-->
  <!--rgba="0.792156862745098 0.819607843137255 0.933333333333333 1" />-->
  <!--</material>-->
  <!--</visual>-->
  <!--<collision>-->
  <!--<origin-->
  <!--xyz="0 0 0"-->
  <!--rpy="0 0 0" />-->
  <!--<geometry>-->
  <!--<mesh-->
  <!--filename="package://hrl_base_selection/urdf/bed_and_environment_cali_henry_tray/meshes/foot_left_link.STL" />-->
  <!--</geometry>-->
  <!--</collision>-->
  <!--</link>-->
  <!--<joint-->
  <!--name="autobed/calf_foot_left_joint"-->
  <!--type="revolute">-->
  <!--<origin-->
  <!--xyz="-0.41279 -0.03188 0"-->
  <!--rpy="0 0 0.09" />-->
  <!--<parent-->
  <!--link="autobed/calf_left_link" />-->
  <!--<child-->
  <!--link="autobed/foot_left_link" />-->
  <!--<axis-->
  <!--xyz="0 0 1" />-->
  <!--<limit-->
  <!--lower="-3."-->
  <!--upper="3."-->
  <!--effort="0"-->
  <!--velocity="0" />-->
  <!--</joint>-->
  <!--<link-->
  <!--name="autobed/quad_right_link">-->
  <!--<visual>-->
  <!--<origin-->
  <!--xyz="0 0 0"-->
  <!--rpy="0 0 0" />-->
  <!--<geometry>-->
  <!--<mesh-->
  <!--filename="package://hrl_base_selection/urdf/bed_and_environment_cali_henry_tray/meshes/quad_right_link.STL" />-->
  <!--</geometry>-->
  <!--<material-->
  <!--name="">-->
  <!--<color-->
  <!--rgba="0.792156862745098 0.819607843137255 0.933333333333333 1" />-->
  <!--</material>-->
  <!--</visual>-->
  <!--<collision>-->
  <!--<origin-->
  <!--xyz="0 0 0"-->
  <!--rpy="0 0 0" />-->
  <!--<geometry>-->
  <!--<mesh-->
  <!--filename="package://hrl_base_selection/urdf/bed_and_environment_cali_henry_tray/meshes/quad_right_link.STL" />-->
  <!--</geometry>-->
  <!--</collision>-->
  <!--</link>-->
  <!--<joint-->
  <!--name="autobed/body_quad_right_joint"-->
  <!--type="revolute">-->
  <!--<origin-->
  <!--xyz="0.05207 0 0.08636"-->
  <!--rpy="0 0 -.25" />-->
  <!--<parent-->
  <!--link="autobed/lower_body_link" />-->
  <!--<child-->
  <!--link="autobed/quad_right_link" />-->
  <!--<axis-->
  <!--xyz="0 0 1" />-->
  <!--<limit-->
  <!--lower="-3"-->
  <!--upper="3"-->
  <!--effort="0"-->
  <!--velocity="0" />-->
  <!--</joint>-->
  <!--<link-->
  <!--name="autobed/calf_right_link">-->
  <!--<visual>-->
  <!--<origin-->
  <!--xyz="0 0 0"-->
  <!--rpy="0 0 0" />-->
  <!--<geometry>-->
  <!--<mesh-->
  <!--filename="package://hrl_base_selection/urdf/bed_and_environment_cali_henry_tray/meshes/calf_right_link.STL" />-->
  <!--</geometry>-->
  <!--<material-->
  <!--name="">-->
  <!--<color-->
  <!--rgba="0.792156862745098 0.819607843137255 0.933333333333333 1" />-->
  <!--</material>-->
  <!--</visual>-->
  <!--<collision>-->
  <!--<origin-->
  <!--xyz="0 0 0"-->
  <!--rpy="0 0 0" />-->
  <!--<geometry>-->
  <!--<mesh-->
  <!--filename="package://hrl_base_selection/urdf/bed_and_environment_cali_henry_tray/meshes/calf_right_link.STL" />-->
  <!--</geometry>-->
  <!--</collision>-->
  <!--</link>-->
  <!--<joint-->
  <!--name="autobed/quad_calf_right_joint"-->
  <!--type="revolute">-->
  <!--<origin-->
  <!--xyz="0.41218 0.11044 0"-->
  <!--rpy="3.14159 0 3.43" />-->
  <!--<parent-->
  <!--link="autobed/quad_right_link" />-->
  <!--<child-->
  <!--link="autobed/calf_right_link" />-->
  <!--<axis-->
  <!--xyz="0 0 1" />-->
  <!--<limit-->
  <!--lower="-3"-->
  <!--upper="3"-->
  <!--effort="0"-->
  <!--velocity="0" />-->
  <!--</joint>-->
  <!--<link-->
  <!--name="autobed/foot_right_link">-->
  <!--<visual>-->
  <!--<origin-->
  <!--xyz="0 0 0"-->
  <!--rpy="0 0 0" />-->
  <!--<geometry>-->
  <!--<mesh-->
  <!--filename="package://hrl_base_selection/urdf/bed_and_environment_cali_henry_tray/meshes/foot_right_link.STL" />-->
  <!--</geometry>-->
  <!--<material-->
  <!--name="">-->
  <!--<color-->
  <!--rgba="0.792156862745098 0.819607843137255 0.933333333333333 1" />-->
  <!--</material>-->
  <!--</visual>-->
  <!--<collision>-->
  <!--<origin-->
  <!--xyz="0 0 0"-->
  <!--rpy="0 0 0" />-->
  <!--<geometry>-->
  <!--<mesh-->
  <!--filename="package://hrl_base_selection/urdf/bed_and_environment_cali_henry_tray/meshes/foot_right_link.STL" />-->
  <!--</geometry>-->
  <!--</collision>-->
  <!--</link>-->
  <!--<joint-->
  <!--name="autobed/calf_foot_right_joint"-->
  <!--type="revolute">-->
  <!--<origin-->
  <!--xyz="-0.41279 -0.03188 0"-->
  <!--rpy="0 0 0.09" />-->
  <!--<parent-->
  <!--link="autobed/calf_right_link" />-->
  <!--<child-->
  <!--link="autobed/foot_right_link" />-->
  <!--<axis-->
  <!--xyz="0 0 1" />-->
  <!--<limit-->
  <!--lower="-3"-->
  <!--upper="3"-->
  <!--effort="0"-->
  <!--velocity="0" />-->
  <!--</joint>-->
  <!--<link-->
  <!--name="autobed/arm_left_link">-->
  <!--<visual>-->
  <!--<origin-->
  <!--xyz="0 0 0"-->
  <!--rpy="0 0 0" />-->
  <!--<geometry>-->
  <!--<mesh-->
  <!--filename="package://hrl_base_selection/urdf/bed_and_environment_cali_henry_tray/meshes/arm_left_link.STL" />-->
  <!--</geometry>-->
  <!--<material-->
  <!--name="">-->
  <!--<color-->
  <!--rgba="0.792156862745098 0.819607843137255 0.933333333333333 1" />-->
  <!--</material>-->
  <!--</visual>-->
  <!--<collision>-->
  <!--<origin-->
  <!--xyz="0 0 0"-->
  <!--rpy="0 0 0" />-->
  <!--<geometry>-->
  <!--<mesh-->
  <!--filename="package://hrl_base_selection/urdf/bed_and_environment_cali_henry_tray/meshes/arm_left_link.STL" />-->
  <!--</geometry>-->
  <!--</collision>-->
  <!--</link>-->
  <!--<joint-->
  <!--name="autobed/body_arm_left_joint"-->
  <!--type="revolute">-->
  <!--<origin-->
  <!--xyz="0.09652 0 -0.17526"-->
  <!--rpy="0 0 0" />-->
  <!--<parent-->
  <!--link="autobed/upper_body_link" />-->
  <!--<child-->
  <!--link="autobed/arm_left_link" />-->
  <!--<axis-->
  <!--xyz="0 0 1" />-->
  <!--<limit-->
  <!--lower="-3"-->
  <!--upper="3"-->
  <!--effort="0"-->
  <!--velocity="0" />-->
  <!--</joint>-->
  <!--<link-->
  <!--name="autobed/forearm_left_rotx_link">-->
  <!--</link>-->
  <!--<joint-->
  <!--name="autobed/arm_forearm_left_rotx_joint"-->
  <!--type="revolute">-->
  <!--<origin-->
  <!--xyz="0.28174 -0.0106 -0.04953"-->
  <!--rpy="0 0 0" />-->
  <!--<parent-->
  <!--link="autobed/arm_left_link" />-->
  <!--<child-->
  <!--link="autobed/forearm_left_rotx_link" />-->
  <!--<axis-->
  <!--xyz="1 0 0" />-->
  <!--<limit-->
  <!--lower="-3"-->
  <!--upper="3"-->
  <!--effort="0"-->
  <!--velocity="0" />-->
  <!--</joint>-->
  <!--<link-->
  <!--name="autobed/forearm_left_link">-->
  <!--<visual>-->
  <!--<origin-->
  <!--xyz="0 0 0"-->
  <!--rpy="0 0 0" />-->
  <!--<geometry>-->
  <!--<mesh-->
  <!--filename="package://hrl_base_selection/urdf/bed_and_environment_cali_henry_tray/meshes/forearm_left_link.STL" />-->
  <!--</geometry>-->
  <!--<material-->
  <!--name="">-->
  <!--<color-->
  <!--rgba="0.792156862745098 0.819607843137255 0.933333333333333 1" />-->
  <!--</material>-->
  <!--</visual>-->
  <!--<collision>-->
  <!--<origin-->
  <!--xyz="0 0 0"-->
  <!--rpy="0 0 0" />-->
  <!--<geometry>-->
  <!--<mesh-->
  <!--filename="package://hrl_base_selection/urdf/bed_and_environment_cali_henry_tray/meshes/forearm_left_link.STL" />-->
  <!--</geometry>-->
  <!--</collision>-->
  <!--</link>-->
  <!--<joint-->
  <!--name="autobed/arm_forearm_left_rotz_joint"-->
  <!--type="revolute">-->
  <!--<origin-->
  <!--xyz="0 0 0"-->
  <!--rpy="0 0 0" />-->
  <!--<parent-->
  <!--link="autobed/forearm_left_rotx_link" />-->
  <!--<child-->
  <!--link="autobed/forearm_left_link" />-->
  <!--<axis-->
  <!--xyz="0 0 1" />-->
  <!--<limit-->
  <!--lower="-3"-->
  <!--upper="3"-->
  <!--effort="0"-->
  <!--velocity="0" />-->
  <!--</joint>-->
  <!--<link-->
  <!--name="autobed/hand_left_link">-->
  <!--<visual>-->
  <!--<origin-->
  <!--xyz="0 0 0"-->
  <!--rpy="0 0 0" />-->
  <!--<geometry>-->
  <!--<mesh-->
  <!--filename="package://hrl_base_selection/urdf/bed_and_environment_cali_henry_tray/meshes/hand_left_link.STL" />-->
  <!--</geometry>-->
  <!--<material-->
  <!--name="">-->
  <!--<color-->
  <!--rgba="0.792156862745098 0.819607843137255 0.933333333333333 1" />-->
  <!--</material>-->
  <!--</visual>-->
  <!--<collision>-->
  <!--<origin-->
  <!--xyz="0 0 0"-->
  <!--rpy="0 0 0" />-->
  <!--<geometry>-->
  <!--<mesh-->
  <!--filename="package://hrl_base_selection/urdf/bed_and_environment_cali_henry_tray/meshes/hand_left_link.STL" />-->
  <!--</geometry>-->
  <!--</collision>-->
  <!--</link>-->
  <!--<joint-->
  <!--name="autobed/forearm_hand_left_joint"-->
  <!--type="revolute">-->
  <!--<origin-->
  <!--xyz="0.25146 0 0"-->
  <!--rpy="0 0 0" />-->
  <!--<parent-->
  <!--link="autobed/forearm_left_link" />-->
  <!--<child-->
  <!--link="autobed/hand_left_link" />-->
  <!--<axis-->
  <!--xyz="0 0 1" />-->
  <!--<limit-->
  <!--lower="-3"-->
  <!--upper="3"-->
  <!--effort="0"-->
  <!--velocity="0" />-->
  <!--</joint>-->
  <!--<link-->
  <!--name="autobed/arm_right_link">-->
  <!--<visual>-->
  <!--<origin-->
  <!--xyz="0 0 0"-->
  <!--rpy="0 0 0" />-->
  <!--<geometry>-->
  <!--<mesh-->
  <!--filename="package://hrl_base_selection/urdf/bed_and_environment_cali_henry_tray/meshes/arm_right_link.STL" />-->
  <!--</geometry>-->
  <!--<material-->
  <!--name="">-->
  <!--<color-->
  <!--rgba="0.792156862745098 0.819607843137255 0.933333333333333 1" />-->
  <!--</material>-->
  <!--</visual>-->
  <!--<collision>-->
  <!--<origin-->
  <!--xyz="0 0 0"-->
  <!--rpy="0 0 0" />-->
  <!--<geometry>-->
  <!--<mesh-->
  <!--filename="package://hrl_base_selection/urdf/bed_and_environment_cali_henry_tray/meshes/arm_right_link.STL" />-->
  <!--</geometry>-->
  <!--</collision>-->
  <!--</link>-->
  <!--<joint-->
  <!--name="autobed/body_arm_right_joint"-->
  <!--type="revolute">-->
  <!--<origin-->
  <!--xyz="0.09652 0 0.17526"-->
  <!--rpy="0 0 0" />-->
  <!--<parent-->
  <!--link="autobed/upper_body_link" />-->
  <!--<child-->
  <!--link="autobed/arm_right_link" />-->
  <!--<axis-->
  <!--xyz="0 0 1" />-->
  <!--<limit-->
  <!--lower="-3"-->
  <!--upper="3"-->
  <!--effort="0"-->
  <!--velocity="0" />-->
  <!--</joint>-->
  <!--<link-->
  <!--name="autobed/forearm_right_link">-->
  <!--<visual>-->
  <!--<origin-->
  <!--xyz="0 0 0"-->
  <!--rpy="0 0 0" />-->
  <!--<geometry>-->
  <!--<mesh-->
  <!--filename="package://hrl_base_selection/urdf/bed_and_environment_cali_henry_tray/meshes/forearm_right_link.STL" />-->
  <!--</geometry>-->
  <!--<material-->
  <!--name="">-->
  <!--<color-->
  <!--rgba="0.792156862745098 0.819607843137255 0.933333333333333 1" />-->
  <!--</material>-->
  <!--</visual>-->
  <!--<collision>-->
  <!--<origin-->
  <!--xyz="0 0 0"-->
  <!--rpy="0 0 0" />-->
  <!--<geometry>-->
  <!--<mesh-->
  <!--filename="package://hrl_base_selection/urdf/bed_and_environment_cali_henry_tray/meshes/forearm_right_link.STL" />-->
  <!--</geometry>-->
  <!--</collision>-->
  <!--</link>-->
  <!--<joint-->
  <!--name="autobed/arm_forearm_right_joint"-->
  <!--type="revolute">-->
  <!--<origin-->
  <!--xyz="0.28194 0 0.04953"-->
  <!--rpy="0 0 0" />-->
  <!--<parent-->
  <!--link="autobed/arm_right_link" />-->
  <!--<child-->
  <!--link="autobed/forearm_right_link" />-->
  <!--<axis-->
  <!--xyz="0 0 1" />-->
  <!--<limit-->
  <!--lower="-3"-->
  <!--upper="3"-->
  <!--effort="0"-->
  <!--velocity="0" />-->
  <!--</joint>-->
  <!--<link-->
  <!--name="autobed/hand_right_link">-->
  <!--<visual>-->
  <!--<origin-->
  <!--xyz="0 0 0"-->
  <!--rpy="0 0 0" />-->
  <!--<geometry>-->
  <!--<mesh-->
  <!--filename="package://hrl_base_selection/urdf/bed_and_environment_cali_henry_tray/meshes/hand_right_link.STL" />-->
  <!--</geometry>-->
  <!--<material-->
  <!--name="">-->
  <!--<color-->
  <!--rgba="0.792156862745098 0.819607843137255 0.933333333333333 1" />-->
  <!--</material>-->
  <!--</visual>-->
  <!--<collision>-->
  <!--<origin-->
  <!--xyz="0 0 0"-->
  <!--rpy="0 0 0" />-->
  <!--<geometry>-->
  <!--<mesh-->
  <!--filename="package://hrl_base_selection/urdf/bed_and_environment_cali_henry_tray/meshes/hand_right_link.STL" />-->
  <!--</geometry>-->
  <!--</collision>-->
  <!--</link>-->
  <!--<joint-->
  <!--name="autobed/forearm_hand_right_joint"-->
  <!--type="revolute">-->
  <!--<origin-->
  <!--xyz="0.25146 0 0"-->
  <!--rpy="0 0 0" />-->
  <!--<parent-->
  <!--link="autobed/forearm_right_link" />-->
  <!--<child-->
  <!--link="autobed/hand_right_link" />-->
  <!--<axis-->
  <!--xyz="0 0 1" />-->
  <!--<limit-->
  <!--lower="-3"-->
  <!--upper="3"-->
  <!--effort="0"-->
  <!--velocity="0" />-->
  <!--</joint>-->
</robot>
